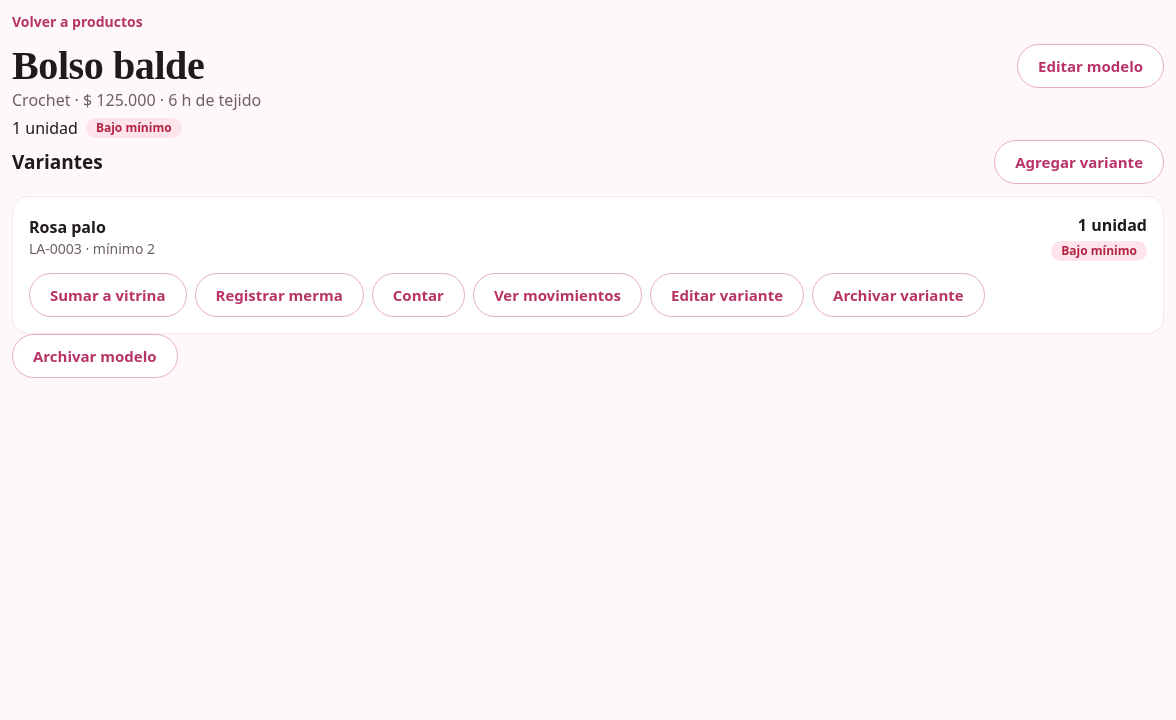
Test: historial de movimientos en palabras
Step 1. Click the button "Ver movimientos" → (557, 295), box x1=473 y1=273 x2=642 y2=317
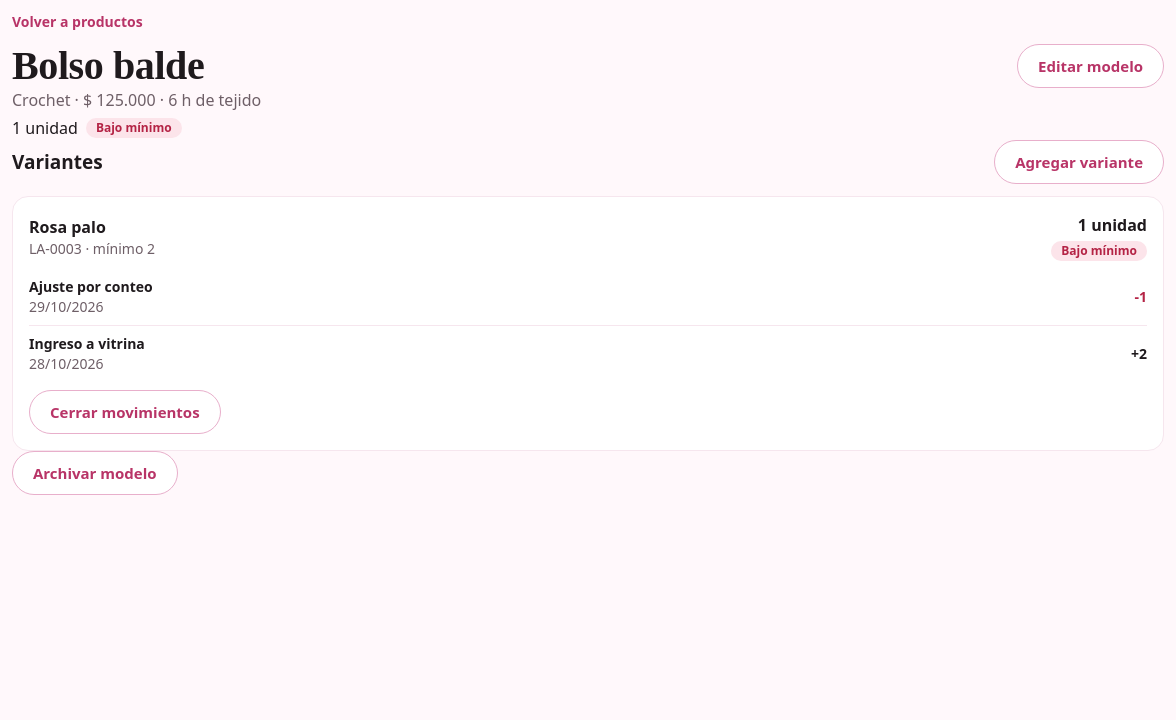
Expected: the text "Ajuste por conteo" is shown, x1=29 y1=277 x2=153 y2=297
Expected: the text "Ingreso a vitrina" is shown, x1=29 y1=334 x2=145 y2=354
Expected: the text "+2" is shown, x1=1131 y1=344 x2=1147 y2=364
